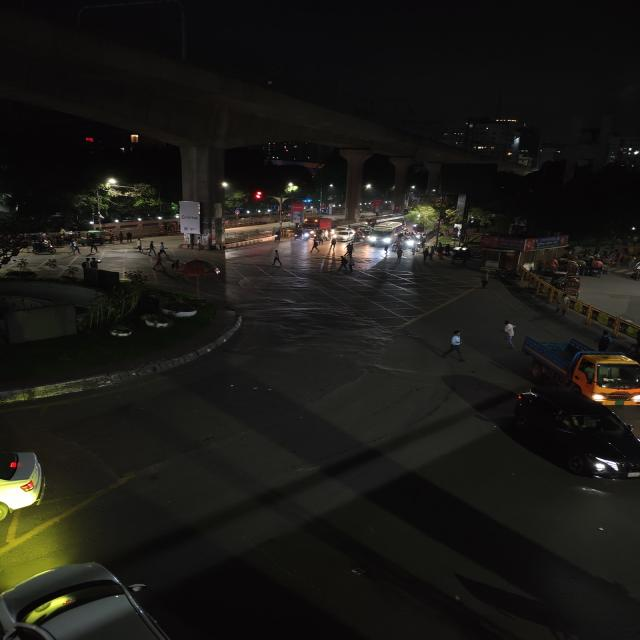bus: (364, 225, 396, 250)
car: (0, 552, 178, 640), (504, 386, 640, 500), (0, 445, 49, 522)
motorcycle: (29, 245, 62, 258), (273, 230, 284, 242)
pedestrian: (442, 328, 470, 363), (502, 321, 521, 349), (336, 254, 356, 272), (131, 237, 147, 256), (269, 249, 286, 266), (66, 240, 82, 256), (154, 252, 166, 272), (344, 242, 358, 258), (394, 246, 406, 264), (481, 268, 491, 289), (145, 240, 157, 256), (88, 240, 100, 256), (328, 235, 339, 252), (310, 239, 320, 253), (116, 232, 127, 244), (159, 240, 167, 256), (423, 246, 429, 264), (125, 232, 133, 244)
pickup_van: (519, 322, 640, 406)
rickshaw: (564, 275, 581, 299), (588, 260, 603, 278)
truck: (299, 218, 334, 233)
